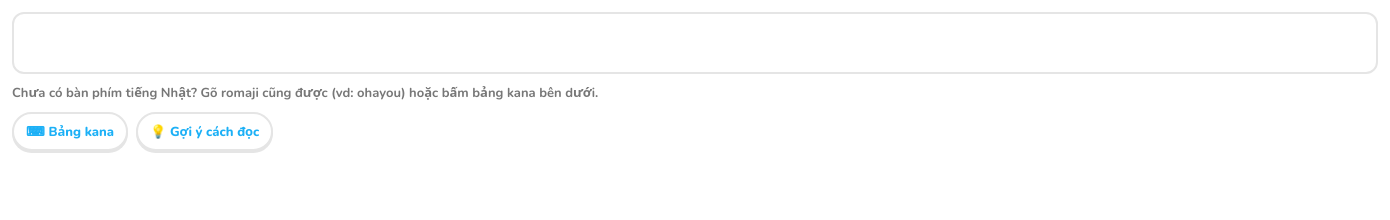
Test: TypingField — beginner scaffolding › never hints a romaji the grader would reject (particle は → wa)
The image size is (1390, 220).
Click the button with test id "reading-hint-toggle".
click(205, 132)  # box [136,112,273,151]
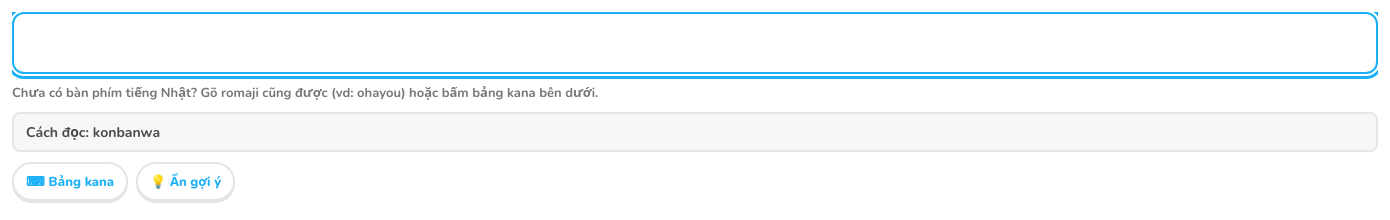
Expected: the element with test id "reading-hint" does not show "konbanha", [12,112,1378,152]
Expected: the element with test id "reading-hint" shows "konbanwa", [93,123,160,142]
